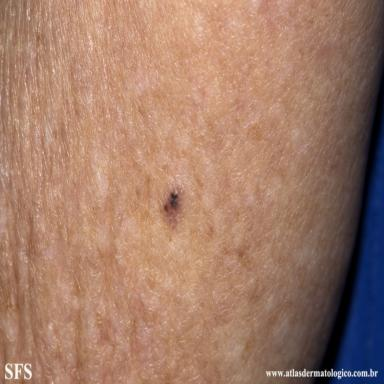basal-cell-carcinoma: (161, 185, 183, 225)
